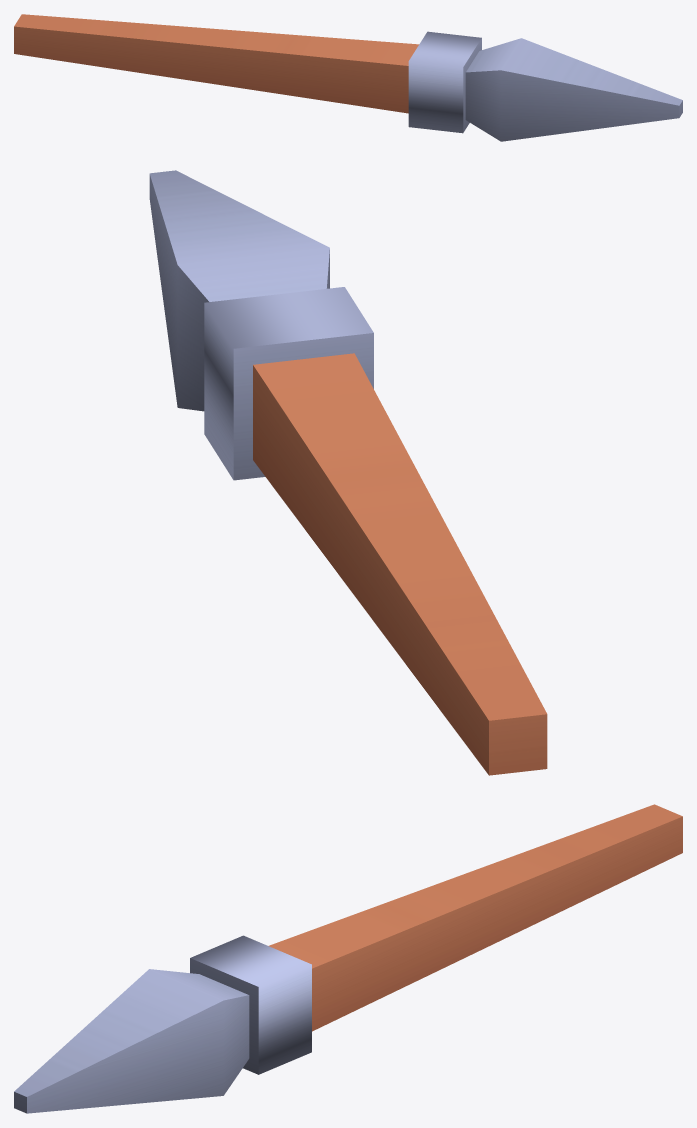
File: arrow_lev2.glb
3 views of the same model, one above another, from view 1: azimuth 30°, elevation 25°; view 2: azimuth 150°, elevation 25°; view 3: azimuth 270°, elevation 25° (orthographic). The views are drawn at different scales.
Parts seen in each view (by area): view 1: arrow_lev2; view 2: arrow_lev2; view 3: arrow_lev2.
Boxes of the visible parts, x1,y1,x2,y2 form: arrow_lev2: (14,14,682,141); arrow_lev2: (149,170,547,775); arrow_lev2: (14,804,682,1113).
Size of the model in its own units: 0.9692 by 0.1526 by 0.9692.
Materials: 1 (1 with a texture image).
